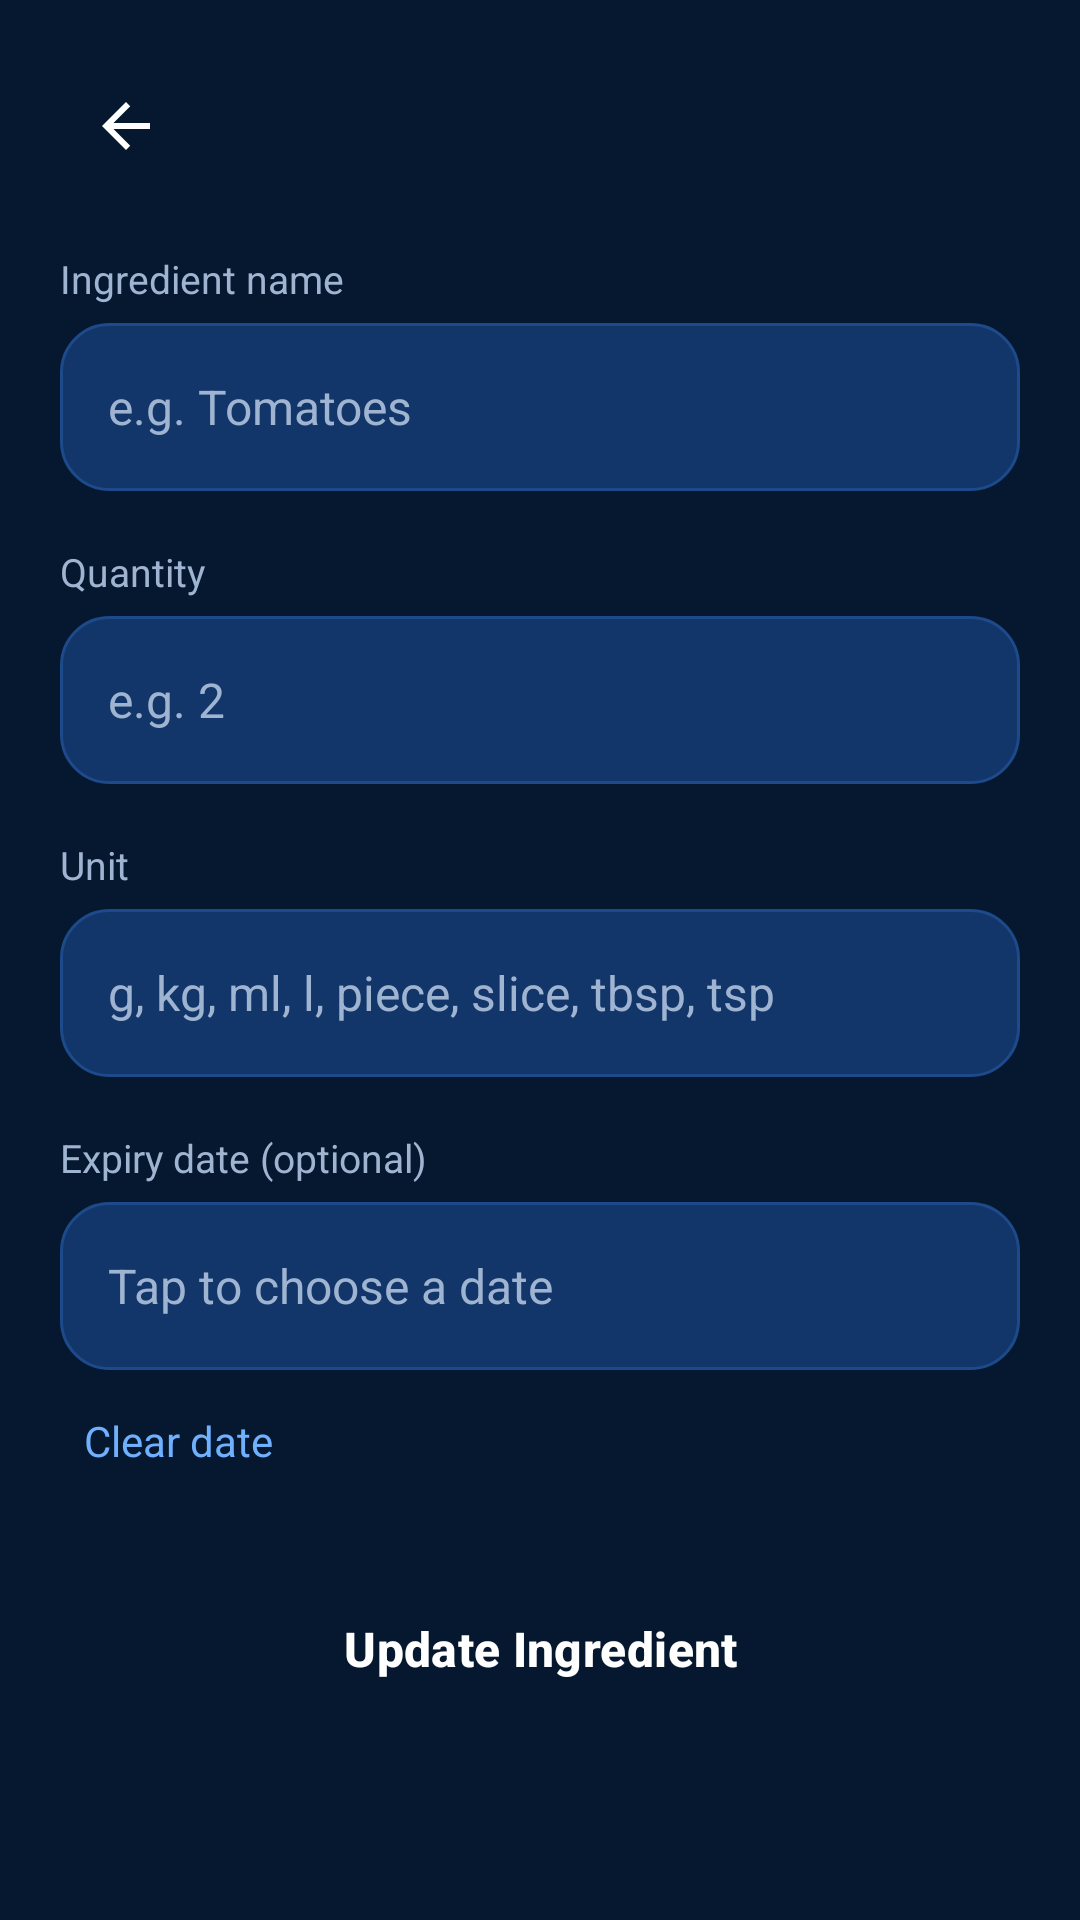

Where to tap for icons on this 1080*1920 app screen, as (x=x, y=y):
Back: (x=126, y=126)
